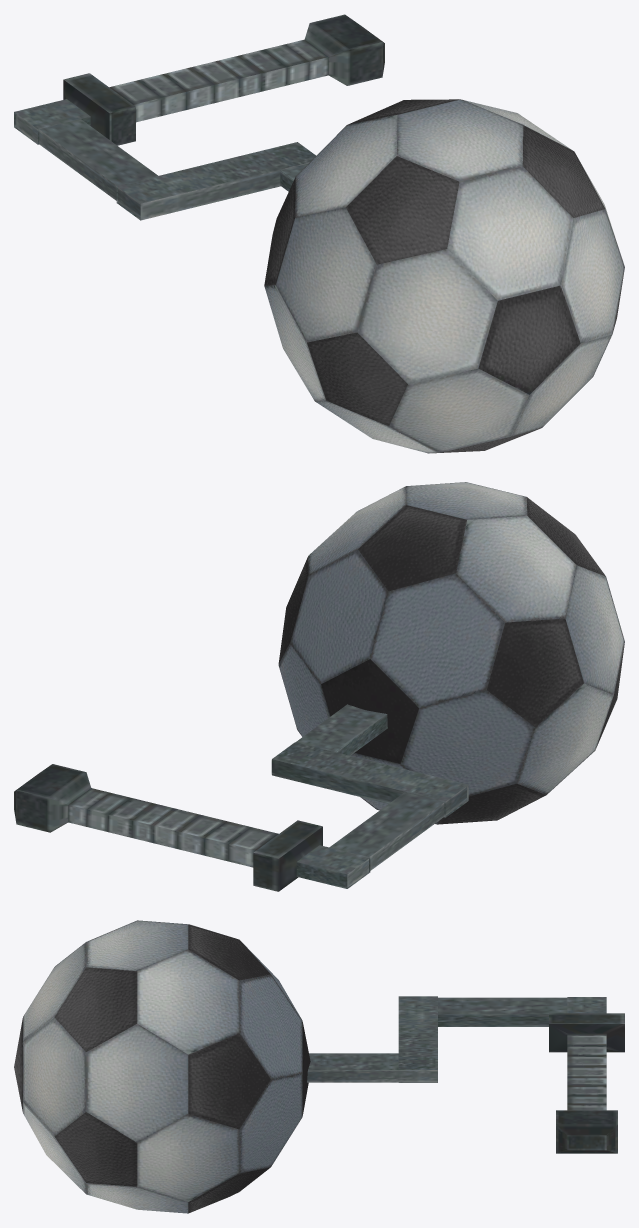
3 views of the same model, one above another, from view 1: azimuth 30°, elevation 25°; view 2: azimuth 150°, elevation 25°; view 3: azimuth 270°, elevation 25° (orthographic). The views are drawn at different scales.
Visible parts, largest first — view 1: i005022; view 2: i005022; view 3: i005022.
Boxes of the visible parts, bbox=[...] form: i005022: bbox=[14, 14, 624, 453]; i005022: bbox=[14, 482, 624, 891]; i005022: bbox=[14, 920, 624, 1213].
Size of the model in its own units: 34.95 by 30.53 by 64.71.
1 material, 1 textured.
